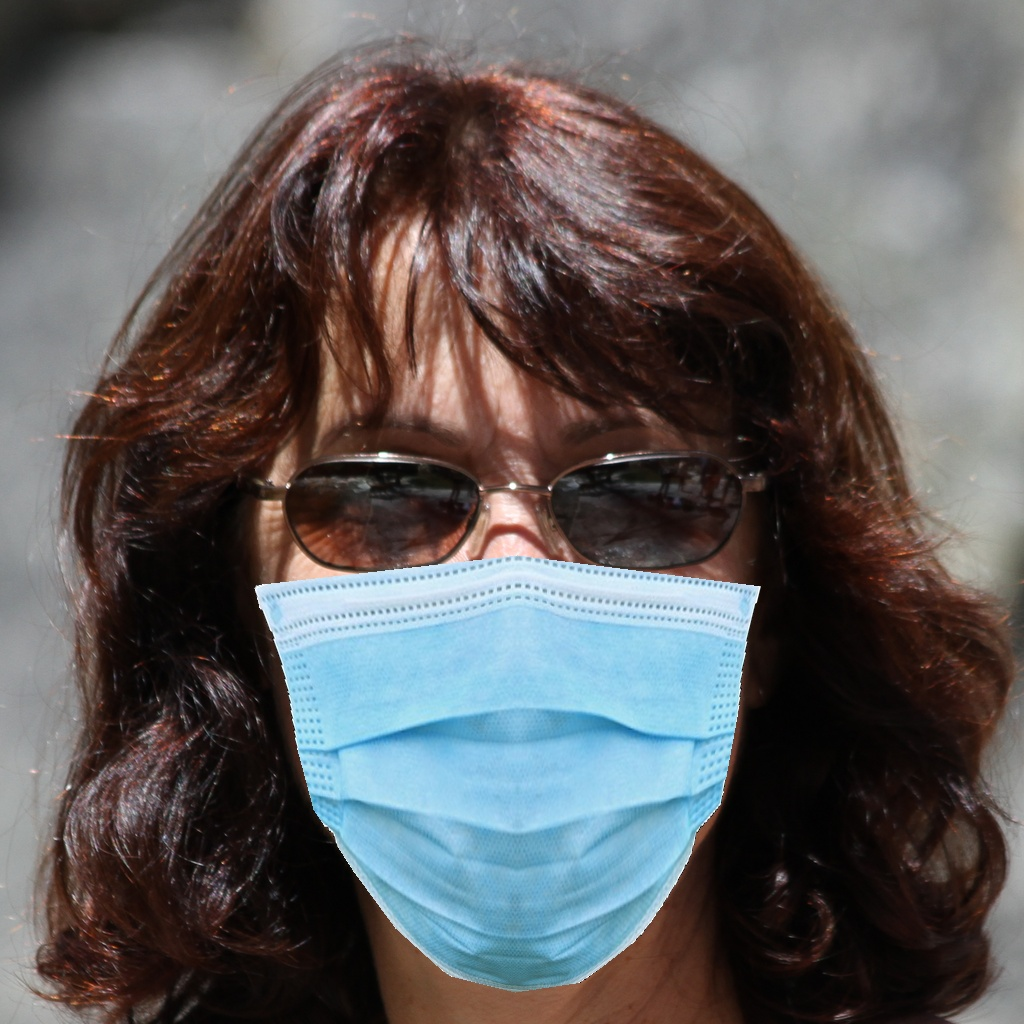Mask: (251, 391, 759, 1004)
